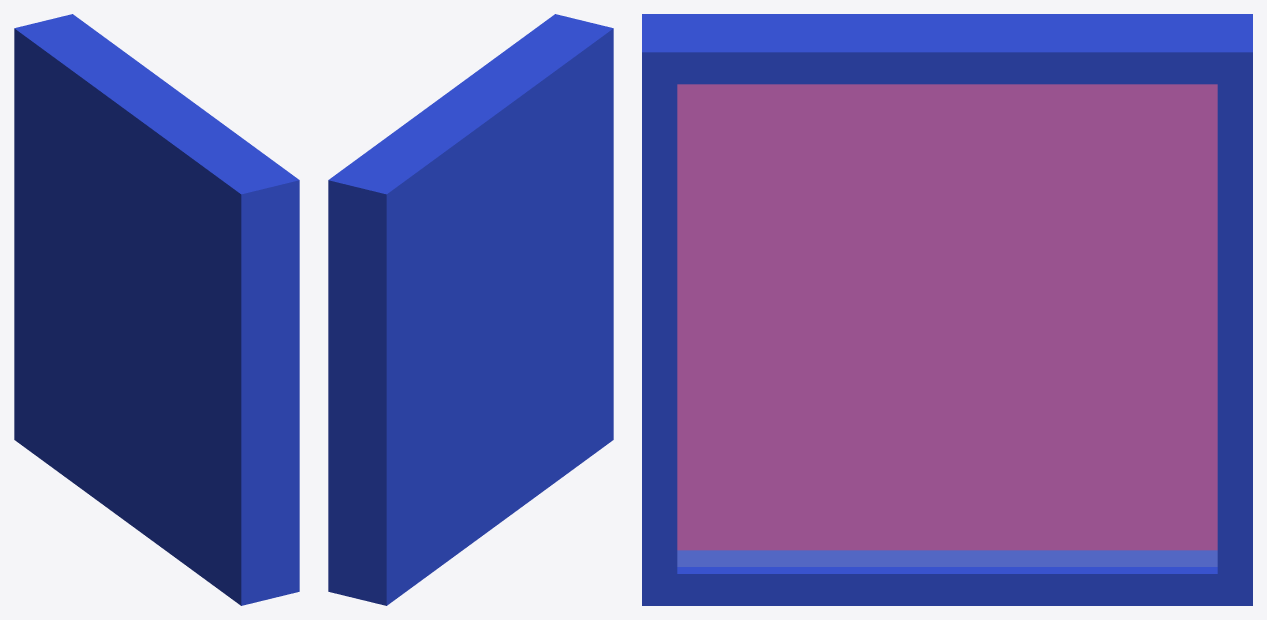
The model's file is GlassTest4.gltf.
3 renders of one model, left to right at view 1: azimuth 30°, elevation 25°; view 2: azimuth 150°, elevation 25°; view 3: azimuth 270°, elevation 25°, orthographic. The views are drawn at different scales.
Visible parts, largest first — view 1: Cube.001; view 2: Cube.001; view 3: Cube.001, Cube.
Part boxes in pixels (box(x1,y1,x2,y2)): Cube.001: box(14, 14, 299, 605); Cube.001: box(328, 14, 613, 605); Cube.001: box(642, 14, 1252, 605); Cube: box(677, 84, 1217, 566).
Size of the model in its own units: 0.3358 by 2.26 by 2.26.
